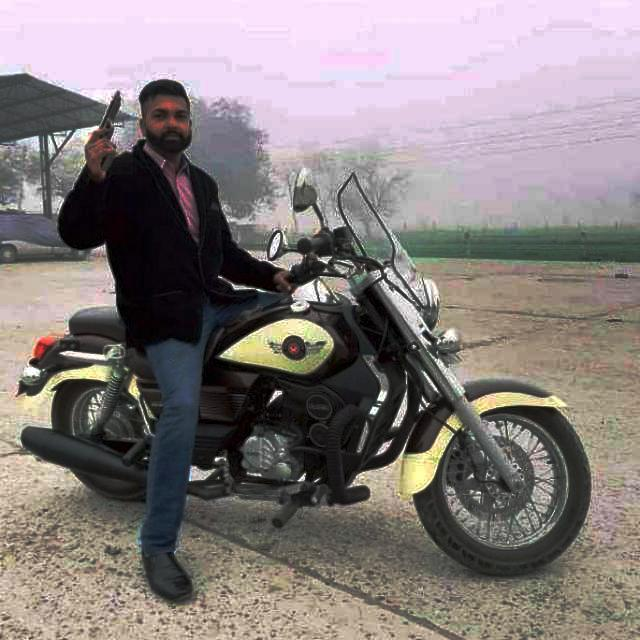Gun: (88, 85, 129, 157)
